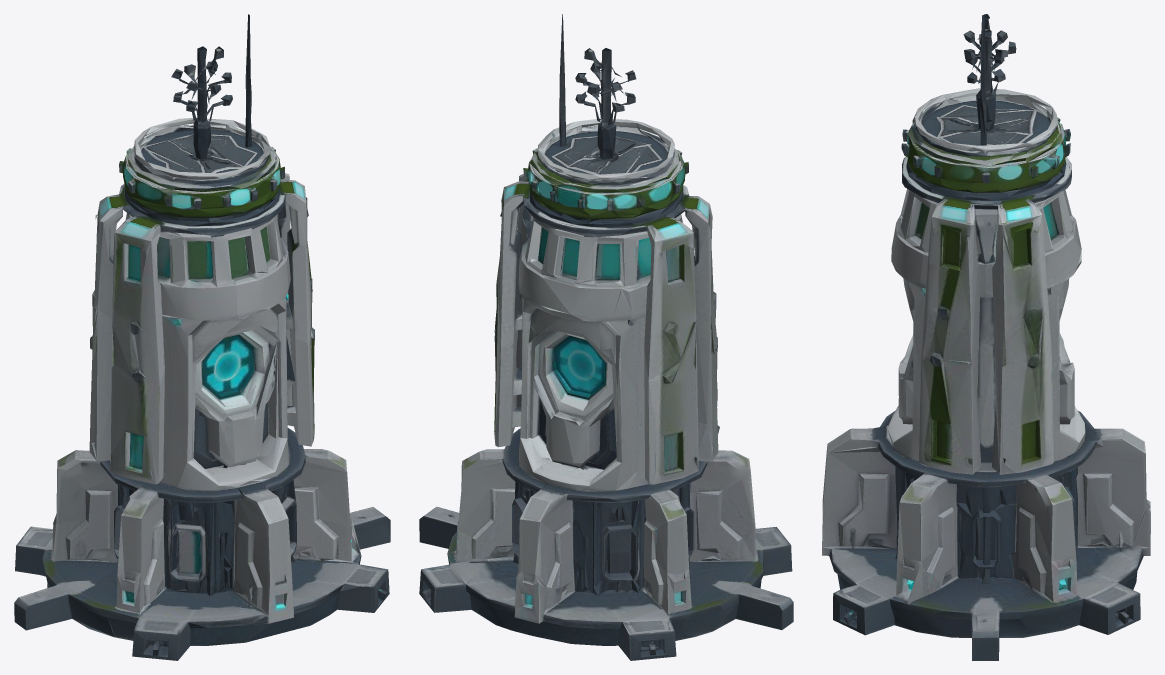
Rendered from b_core_f.glb.
3 renders of one model, left to right at view 1: azimuth 30°, elevation 25°; view 2: azimuth 150°, elevation 25°; view 3: azimuth 270°, elevation 25°, orthographic. The views are drawn at different scales.
Size of the model in its own units: 1.3 by 1.9 by 0.9783.
Materials: 1 (1 with a texture image).
